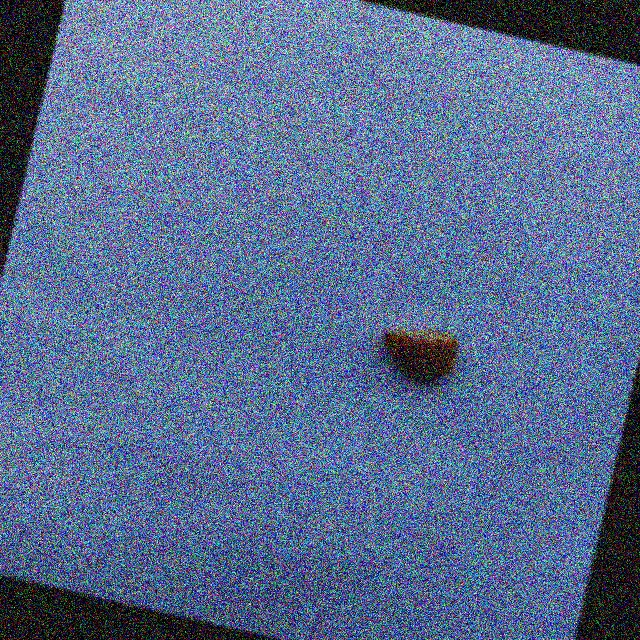grade4: (366, 313, 469, 394)
